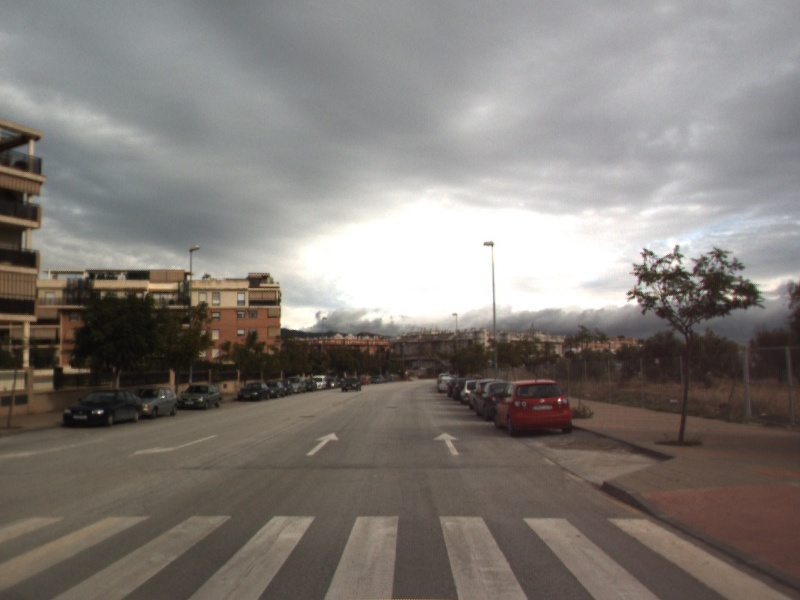STRAIGHT: (305, 431, 341, 457), (431, 431, 461, 457)
